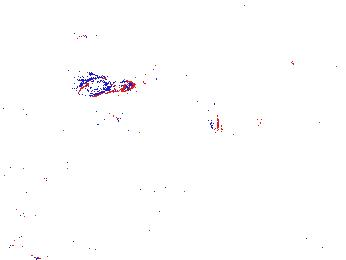glassfish: (184, 70, 220, 141)
red belly glassfish: (65, 31, 89, 42)
redtail glassfish: (69, 73, 136, 93)
